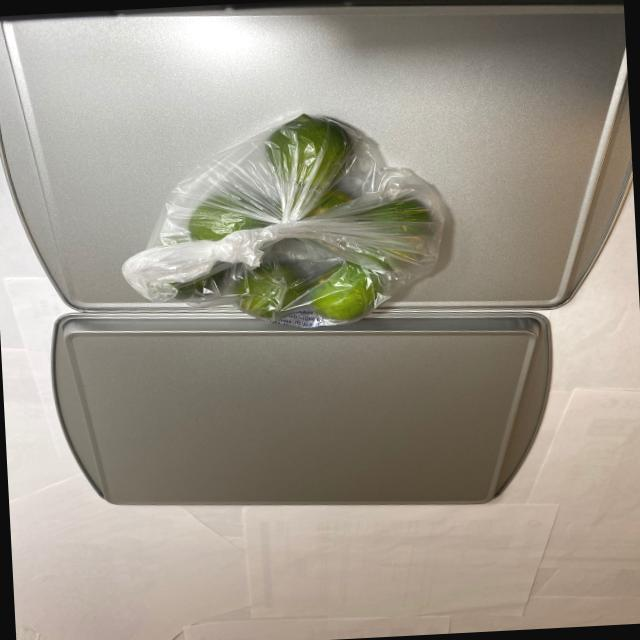lemon: (153, 104, 439, 334)
